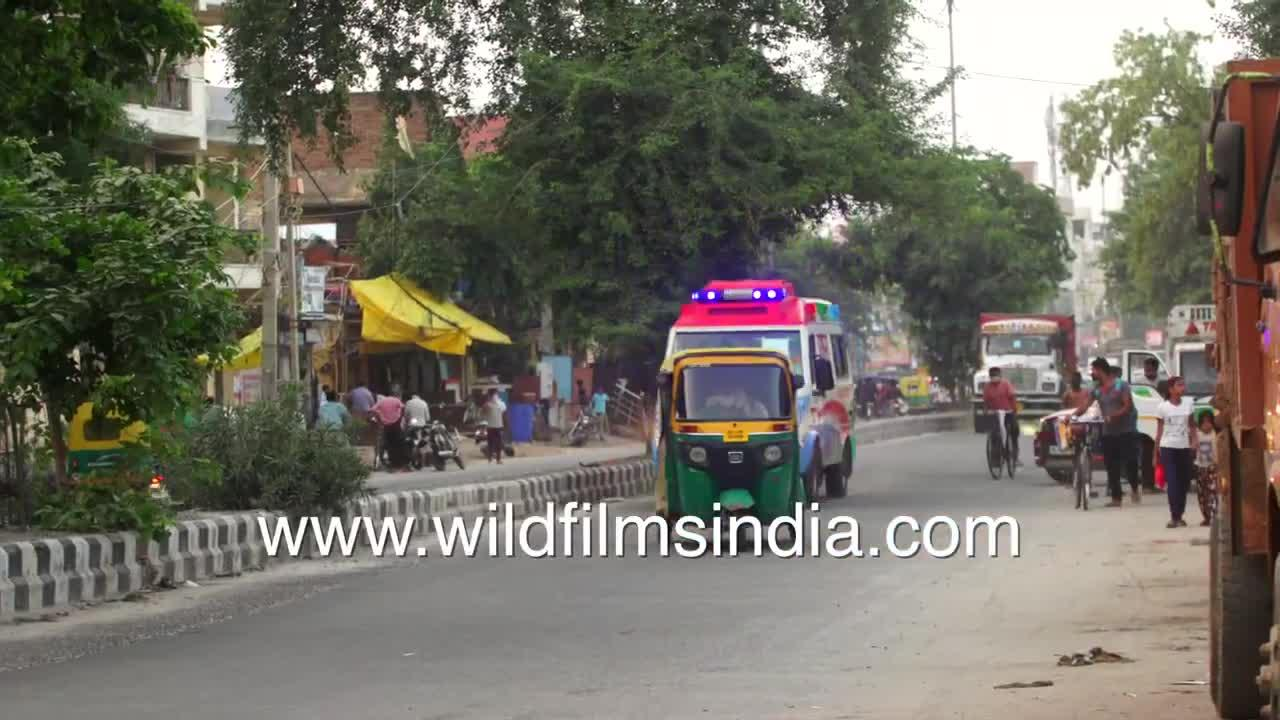AMBULANCE: (666, 278, 852, 366)
